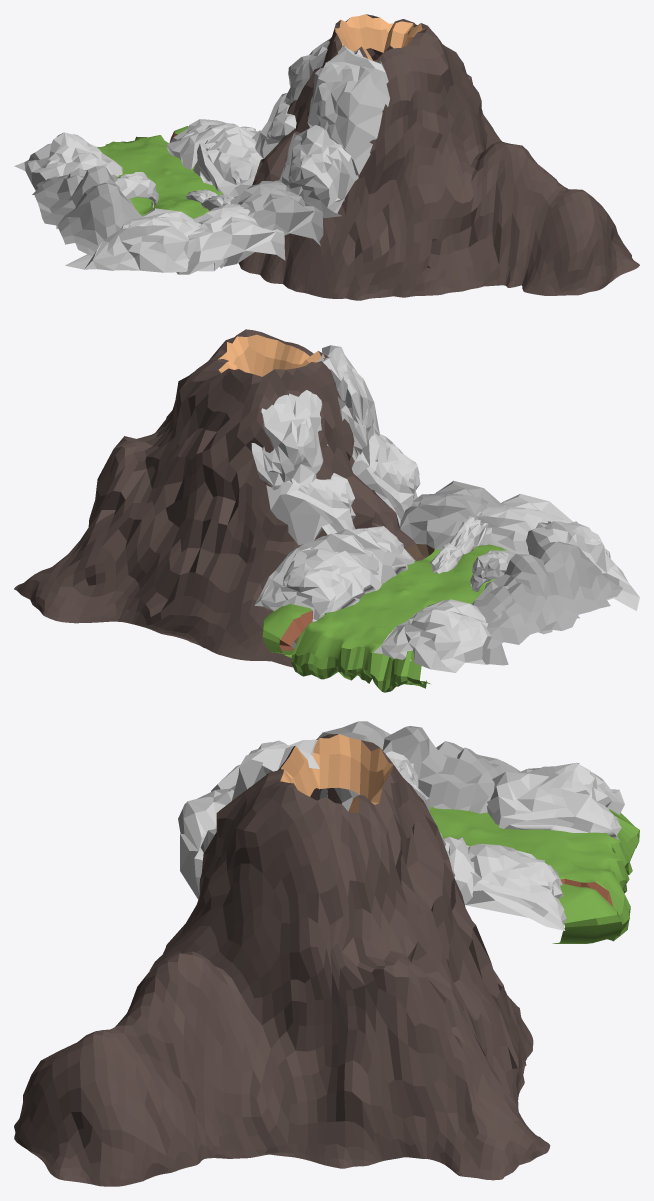
The model's file is terra2.fbx.
3 views of the same model, one above another, from view 1: azimuth 30°, elevation 25°; view 2: azimuth 150°, elevation 25°; view 3: azimuth 270°, elevation 25° (orthographic). The views are drawn at different scales.
Visible parts, largest first — view 1: Cube15; view 2: Cube15; view 3: Cube15.
Boxes of the visible parts, x1,y1,x2,y2 form: Cube15: (14, 14, 639, 300); Cube15: (14, 329, 639, 692); Cube15: (14, 721, 639, 1186).
Bounding box in the file's own units: 86.1 × 35.75 × 66.14.
